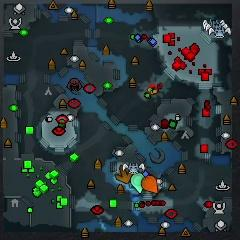p2: (130, 173, 144, 193)
p5: (140, 175, 158, 194)
x5: (115, 165, 132, 183)
